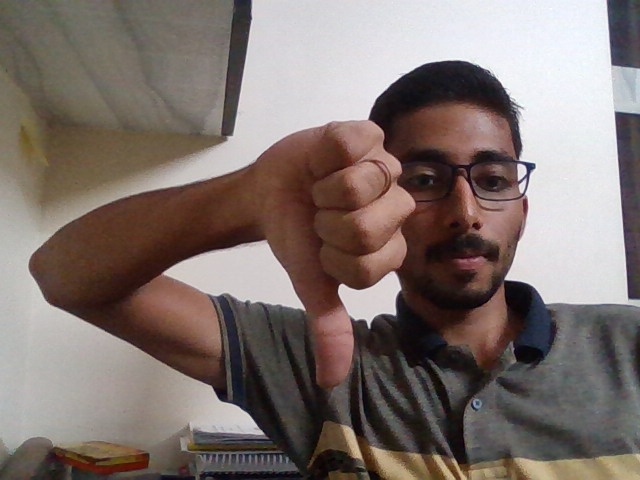No: (243, 96, 428, 410)
